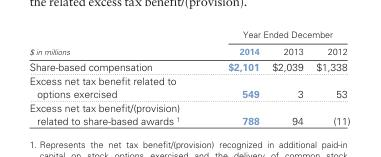table: (28, 28, 349, 126)
table column: (28, 28, 203, 126), (203, 28, 265, 126), (265, 28, 309, 126), (309, 28, 349, 126)
table column header: (28, 28, 349, 58)
table row: (28, 73, 349, 100), (28, 100, 349, 126), (28, 42, 349, 58), (28, 58, 349, 73), (28, 28, 349, 42)
table spanning cell: (28, 28, 203, 58), (203, 28, 349, 42)
